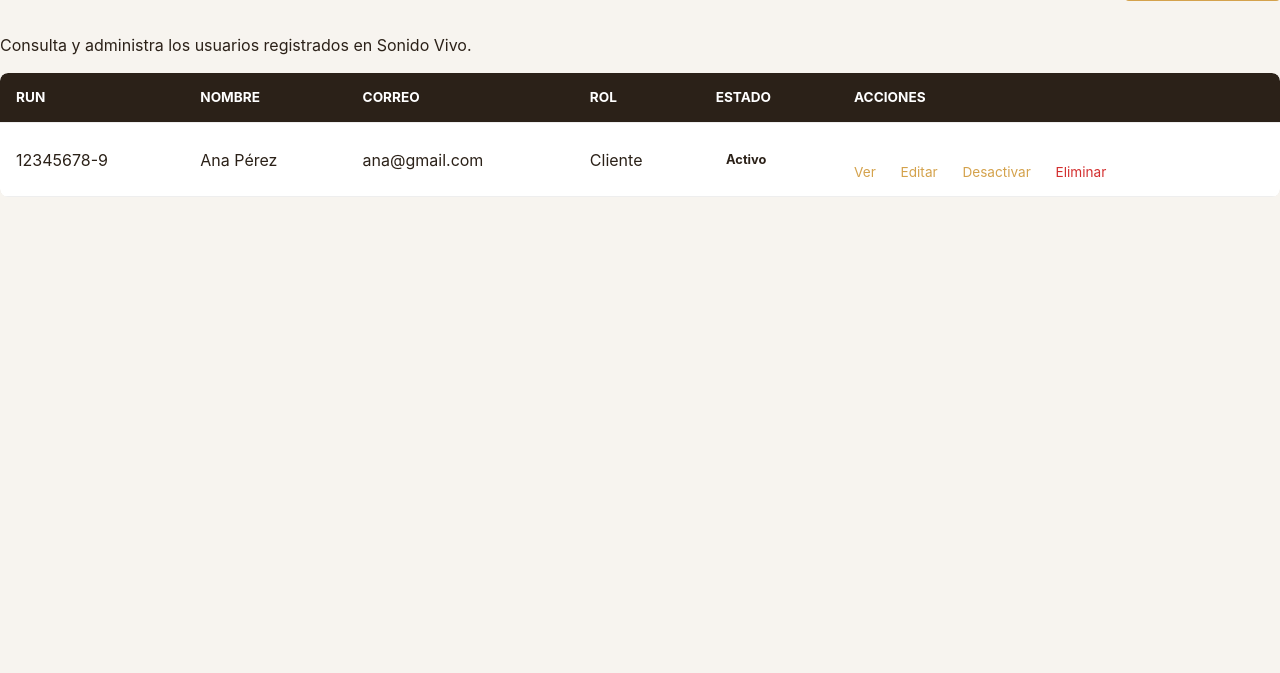
Test: Administración de usuarios › muestra el perfil del usuario seleccionado
Step 1. Click the button "Ver" → [865, 172], box [854,162,876,182]
(page scrolled)
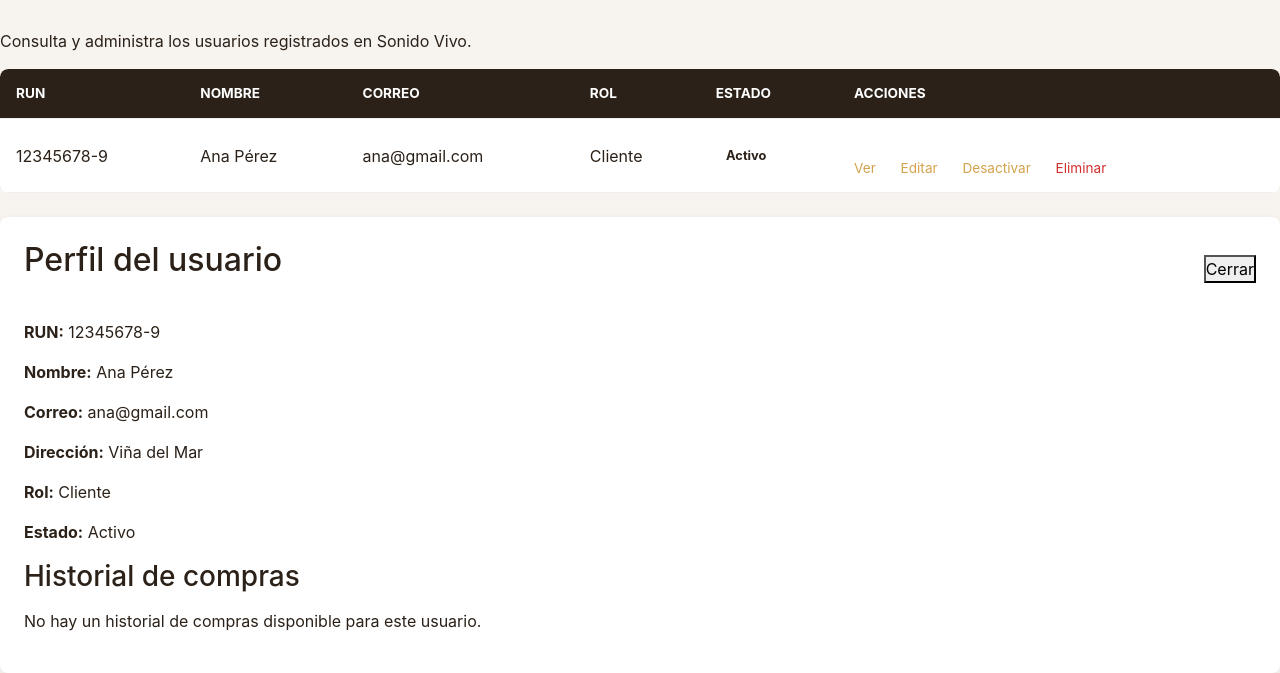
Expected: the element named "Detalle del usuario" shows "Ana Pérez", [96,362,173,382]
Expected: the element named "Detalle del usuario" shows "ana@gmail.com", [88,402,208,422]
Expected: the element named "Detalle del usuario" shows "Viña del Mar", [108,442,203,462]
